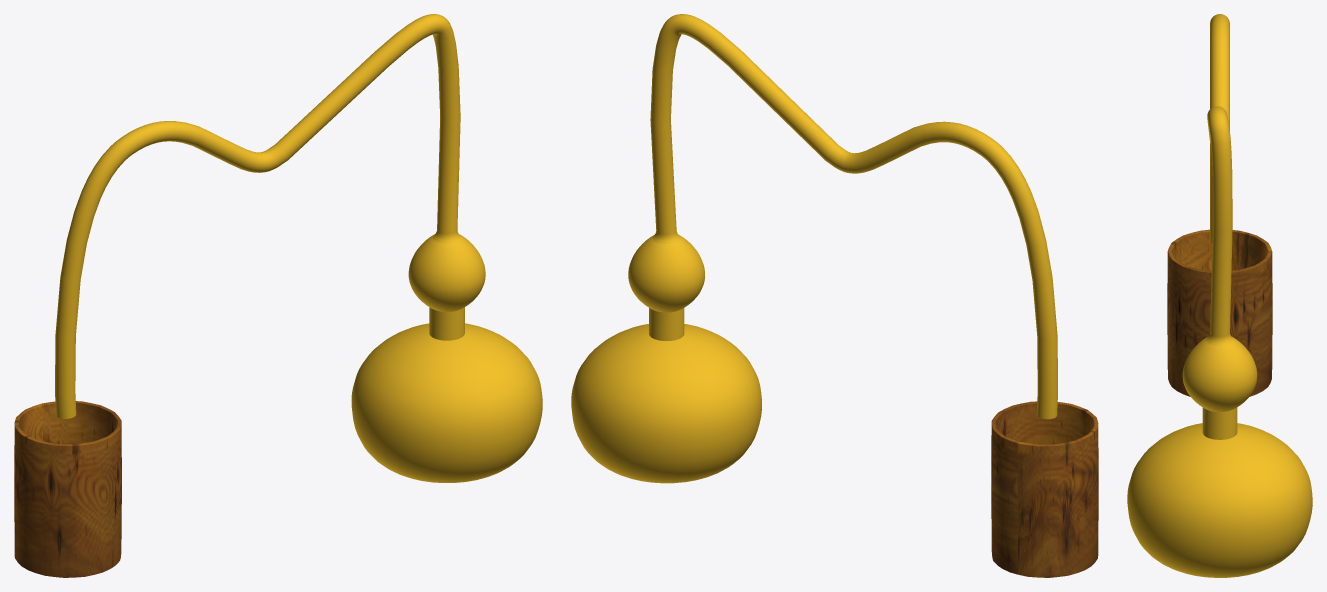
The model's file is Aparat.fbx.
3 renders of one model, left to right at view 1: azimuth 30°, elevation 25°; view 2: azimuth 150°, elevation 25°; view 3: azimuth 270°, elevation 25°, orthographic. The views are drawn at different scales.
Visible parts, largest first — view 1: Sweep, Cylinder; view 2: Sweep, Cylinder; view 3: Sweep, Cylinder.
Part boxes in pixels (left/top/right/bottom): Sweep: left=55, top=14, right=542, bottom=482; Cylinder: left=14, top=401, right=121, bottom=577; Sweep: left=571, top=14, right=1057, bottom=483; Cylinder: left=991, top=401, right=1098, bottom=577; Sweep: left=1127, top=14, right=1312, bottom=577; Cylinder: left=1167, top=229, right=1272, bottom=396.
Size of the model in its own units: 7113 by 6076 by 2315.
2 materials, 1 textured.
